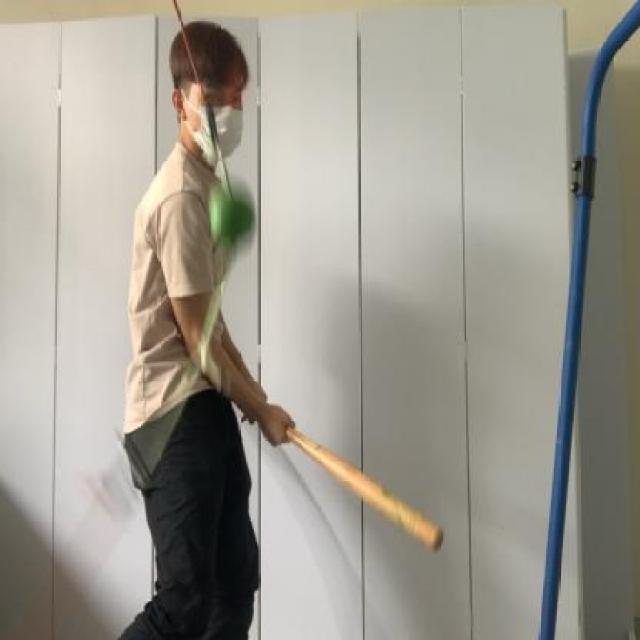baseball: (207, 172, 255, 256)
